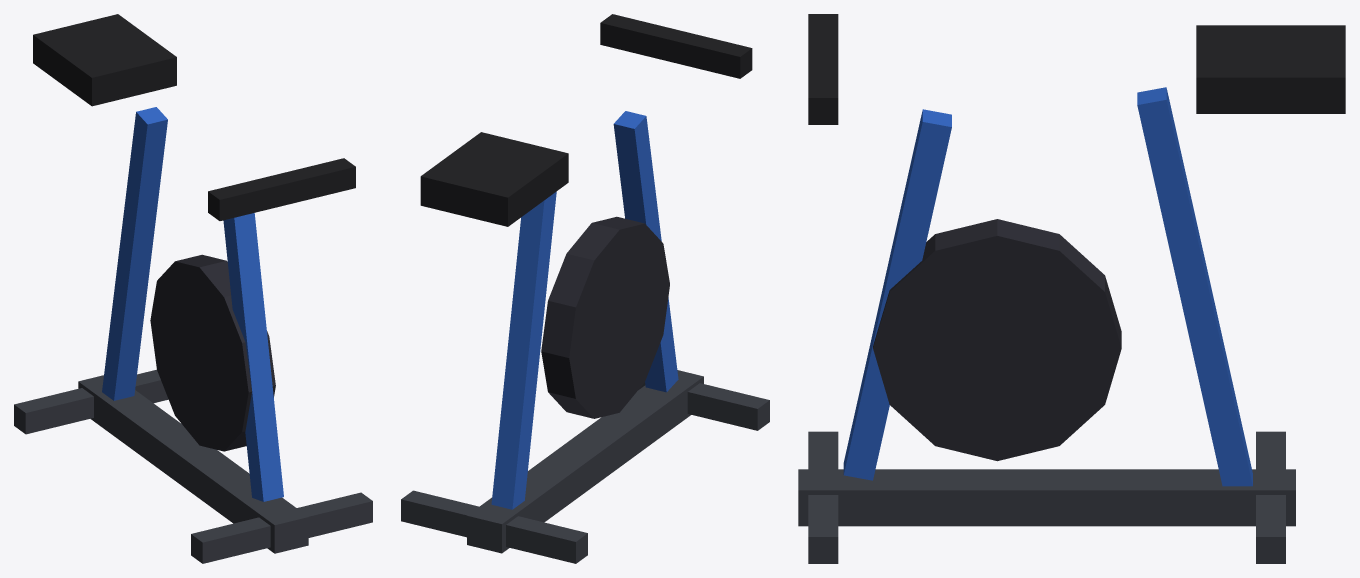
File: exercise_bike.fbx
3 views of the same model, side by side, from view 1: azimuth 30°, elevation 25°; view 2: azimuth 150°, elevation 25°; view 3: azimuth 270°, elevation 25° (orthographic). The views are drawn at different scales.
Parts seen in each view (by area): view 1: exercise_bike; view 2: exercise_bike; view 3: exercise_bike.
Boxes of the visible parts, <box> form: exercise_bike: <box>14,14,372,563</box>; exercise_bike: <box>401,14,769,563</box>; exercise_bike: <box>798,14,1345,563</box>.
Size of the model in its own units: 0.5 by 1.03 by 1.1.
